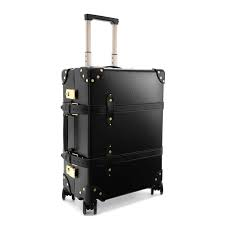suitcase: (57, 12, 167, 218)
